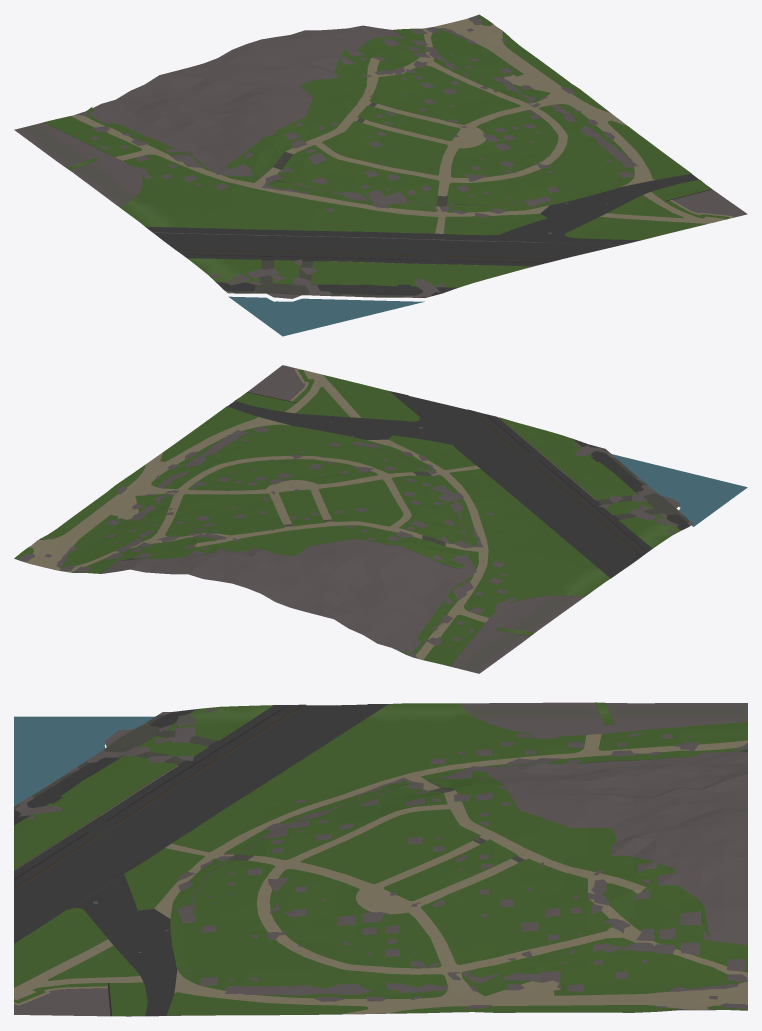
3 renders of one model, top to bottom at view 1: azimuth 30°, elevation 25°; view 2: azimuth 150°, elevation 25°; view 3: azimuth 270°, elevation 25°, orthographic. The views are drawn at different scales.
Parts seen in each view (by area): view 1: c_p00_p12; view 2: c_p00_p12; view 3: c_p00_p12.
Boxes of the visible parts, x1,y1,x2,y2 form: c_p00_p12: (14,14,747,336); c_p00_p12: (14,365,747,673); c_p00_p12: (14,702,747,1016).
Bounding box in the file's own units: 128 × 10.69 × 128.
